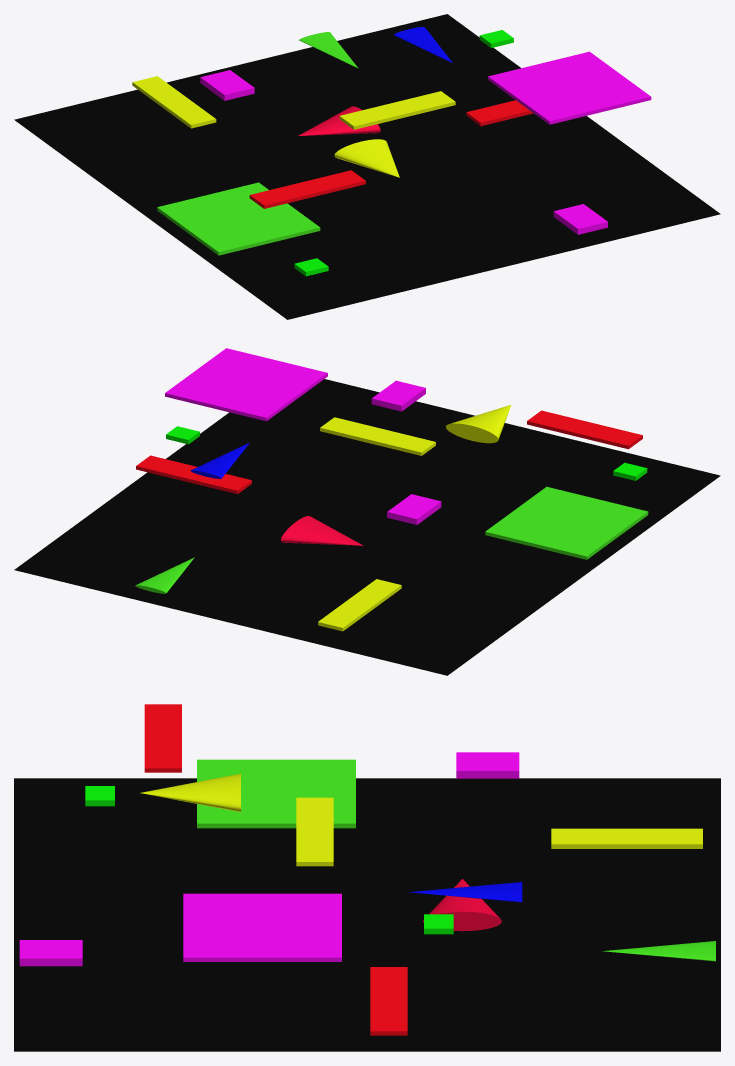
File: Fondo.FBX
The picture shows the model from 3 angles, top to bottom: view 1: azimuth 30°, elevation 25°; view 2: azimuth 150°, elevation 25°; view 3: azimuth 270°, elevation 25°; orthographic projection. The views are drawn at different scales.
Parts seen in each view (by area): view 1: FondoFondo, CajaM5Fondo001, CajaM5Fondo, CajaM3Fondo001, CajaM4Fondo001, CajaM4Fondo, ConeM1Fondo001, CajaM2Fondo001, CajaM2Fondo, CajaM3Fondo, ConeM1Fondo, ConeM2Fondo (+1 smaller); view 2: FondoFondo, CajaM5Fondo, CajaM5Fondo001, CajaM4Fondo001, CajaM3Fondo001, CajaM4Fondo, CajaM3Fondo, ConeM1Fondo001, ConeM1Fondo, CajaM2Fondo, CajaM2Fondo001, ConeM2Fondo (+1 smaller); view 3: FondoFondo, CajaM5Fondo001, CajaM5Fondo, CajaM4Fondo, CajaM4Fondo001, CajaM3Fondo, CajaM3Fondo001, ConeM1Fondo001, ConeM1Fondo, CajaM2Fondo001, CajaM2Fondo, ConeM2Fondo001 (+3 smaller).
Boxes of the visible parts, x1=… form: FondoFondo: x1=14, y1=14, x2=720, y2=319; CajaM5Fondo001: x1=488, y1=51, x2=651, y2=124; CajaM5Fondo: x1=157, y1=182, x2=320, y2=255; CajaM3Fondo001: x1=249, y1=170, x2=365, y2=208; CajaM4Fondo001: x1=339, y1=91, x2=455, y2=129; CajaM4Fondo: x1=132, y1=76, x2=216, y2=128; ConeM1Fondo001: x1=334, y1=139, x2=399, y2=177; CajaM2Fondo001: x1=200, y1=70, x2=254, y2=100; CajaM2Fondo: x1=553, y1=204, x2=607, y2=234; CajaM3Fondo: x1=466, y1=100, x2=533, y2=125; ConeM1Fondo: x1=298, y1=106, x2=380, y2=136; ConeM2Fondo: x1=299, y1=32, x2=358, y2=68; FondoFondo: x1=14, y1=379, x2=720, y2=675; CajaM5Fondo: x1=485, y1=486, x2=648, y2=559; CajaM5Fondo001: x1=165, y1=348, x2=327, y2=421; CajaM4Fondo001: x1=320, y1=417, x2=435, y2=455; CajaM3Fondo001: x1=527, y1=410, x2=642, y2=449; CajaM4Fondo: x1=318, y1=579, x2=401, y2=631; CajaM3Fondo: x1=136, y1=455, x2=251, y2=494; ConeM1Fondo001: x1=446, y1=405, x2=510, y2=443; ConeM1Fondo: x1=280, y1=516, x2=363, y2=545; CajaM2Fondo: x1=371, y1=380, x2=425, y2=411; CajaM2Fondo001: x1=387, y1=494, x2=441, y2=524; ConeM2Fondo: x1=135, y1=557, x2=194, y2=593; FondoFondo: x1=14, y1=778, x2=720, y2=1051; CajaM5Fondo001: x1=183, y1=893, x2=341, y2=961; CajaM5Fondo: x1=197, y1=759, x2=355, y2=828; CajaM4Fondo: x1=551, y1=828, x2=702, y2=848; CajaM4Fondo001: x1=296, y1=797, x2=333, y2=866; CajaM3Fondo: x1=370, y1=967, x2=407, y2=1035; CajaM3Fondo001: x1=144, y1=704, x2=181, y2=772; ConeM1Fondo001: x1=140, y1=773, x2=240, y2=812; ConeM1Fondo: x1=423, y1=879, x2=501, y2=931; CajaM2Fondo001: x1=456, y1=752, x2=519, y2=778; CajaM2Fondo: x1=19, y1=940, x2=82, y2=966; ConeM2Fondo001: x1=409, y1=882, x2=522, y2=902.
Size of the model in its own units: 145 by 23.84 by 158.
